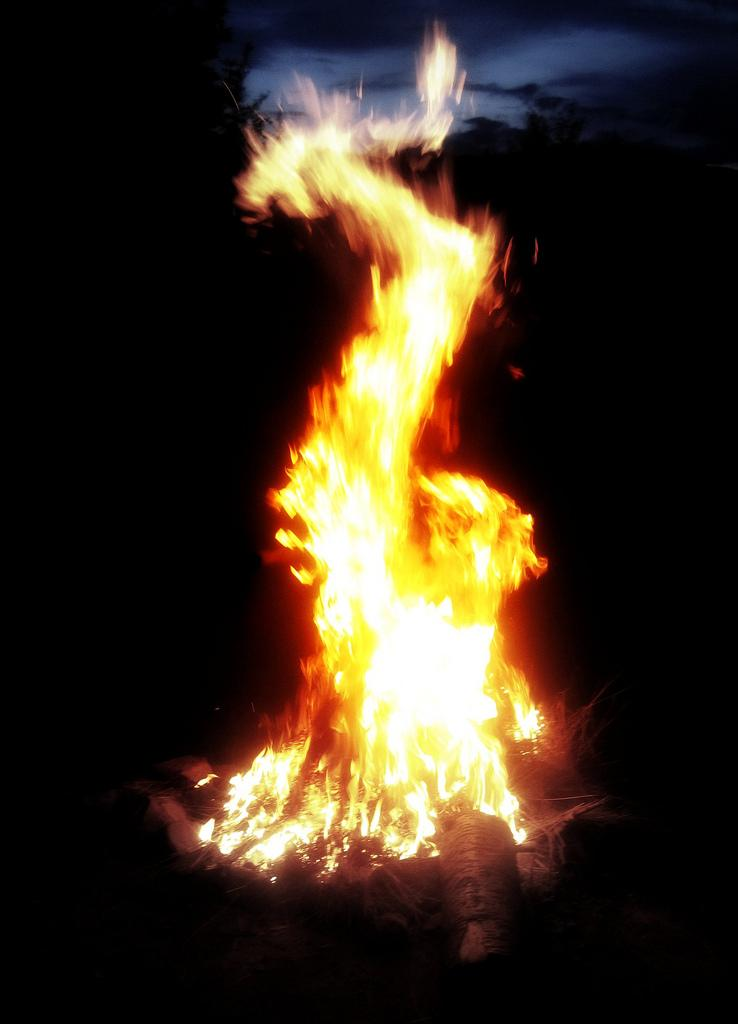fire: (287, 500, 535, 815), (312, 278, 450, 450), (268, 112, 460, 215)
